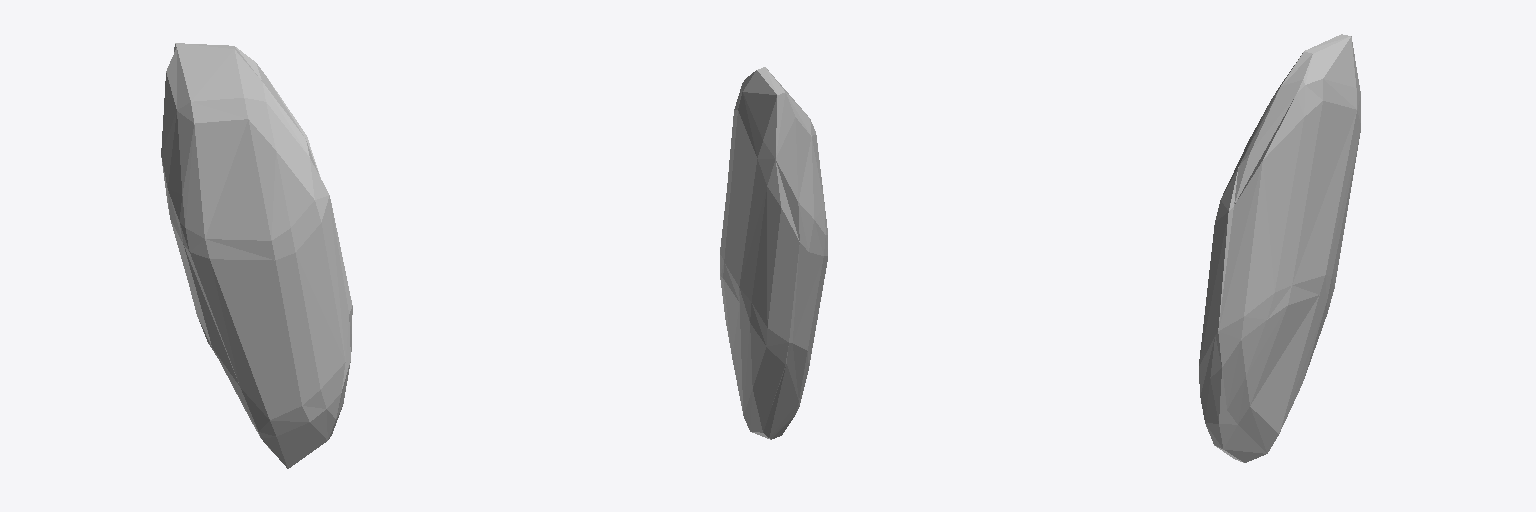
File: rock5.obj
The picture shows the model from 3 angles: view 1: azimuth 30°, elevation 25°; view 2: azimuth 150°, elevation 25°; view 3: azimuth 270°, elevation 25°; orthographic projection.
Visible parts, largest first — view 1: Cube2_sep53; view 2: Cube2_sep53; view 3: Cube2_sep53.
Part boxes in pixels (bbox=[...]): Cube2_sep53: bbox=[161, 43, 352, 468]; Cube2_sep53: bbox=[720, 67, 827, 439]; Cube2_sep53: bbox=[1199, 34, 1360, 462].
Size of the model in its own units: 0.3257 by 0.9263 by 0.3414.